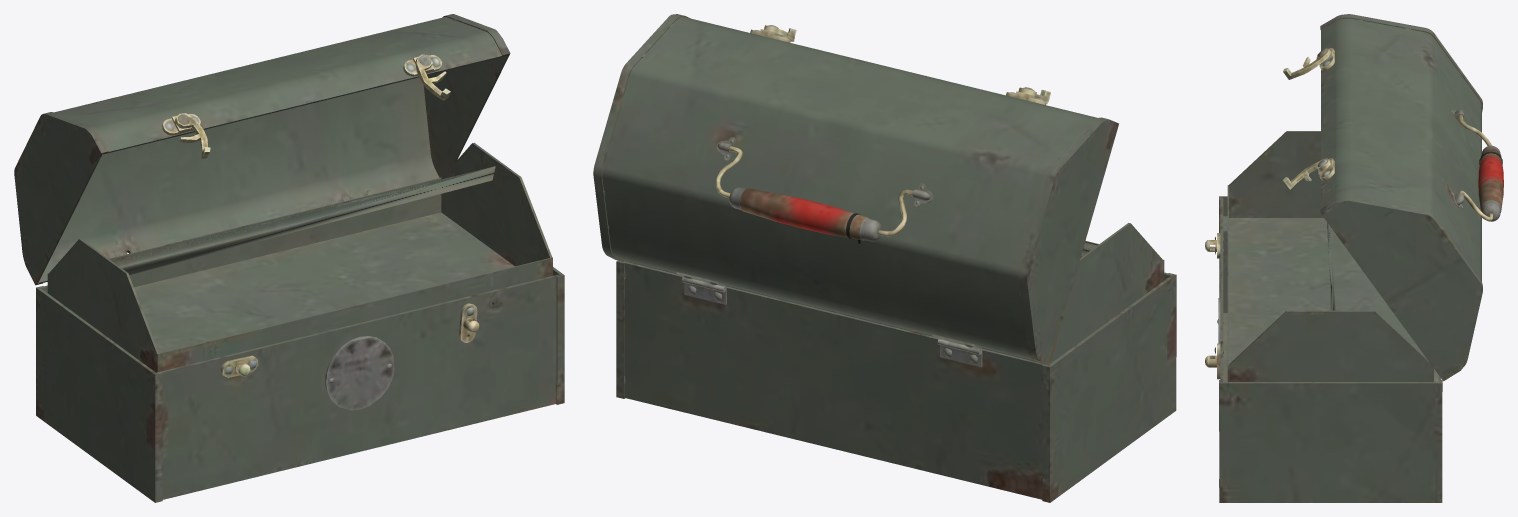
The model's file is metal_toolbox.glb.
3 renders of one model, left to right at view 1: azimuth 30°, elevation 25°; view 2: azimuth 150°, elevation 25°; view 3: azimuth 270°, elevation 25°, orthographic. The views are drawn at different scales.
Visible parts, largest first — view 1: metal_toolbox_lid, metal_toolbox, metal_toolbox_tray, metal_toolbox_handle_latch_r, metal_toolbox_handle_latch_l; view 2: metal_toolbox_lid, metal_toolbox, metal_toolbox_tray, metal_toolbox_handle; view 3: metal_toolbox_lid, metal_toolbox_tray, metal_toolbox, metal_toolbox_handle, metal_toolbox_handle_latch_l, metal_toolbox_handle_latch_r.
Boxes of the visible parts, x1,y1,x2,y2 form: metal_toolbox_lid: [14, 14, 510, 285]; metal_toolbox: [36, 267, 564, 502]; metal_toolbox_tray: [47, 142, 552, 372]; metal_toolbox_handle_latch_r: [415, 54, 450, 100]; metal_toolbox_handle_latch_l: [175, 113, 210, 158]; metal_toolbox_lid: [593, 14, 1118, 365]; metal_toolbox: [616, 260, 1176, 502]; metal_toolbox_tray: [629, 223, 1164, 363]; metal_toolbox_handle: [715, 146, 913, 243]; metal_toolbox_lid: [1318, 14, 1482, 381]; metal_toolbox_tray: [1227, 131, 1433, 381]; metal_toolbox: [1205, 196, 1442, 502]; metal_toolbox_handle: [1458, 114, 1503, 221]; metal_toolbox_handle_latch_l: [1283, 48, 1331, 79]; metal_toolbox_handle_latch_r: [1283, 158, 1330, 189].
Bounding box in the file's own units: 0.4 × 0.3047 × 0.2705.
1 material, 1 textured.
